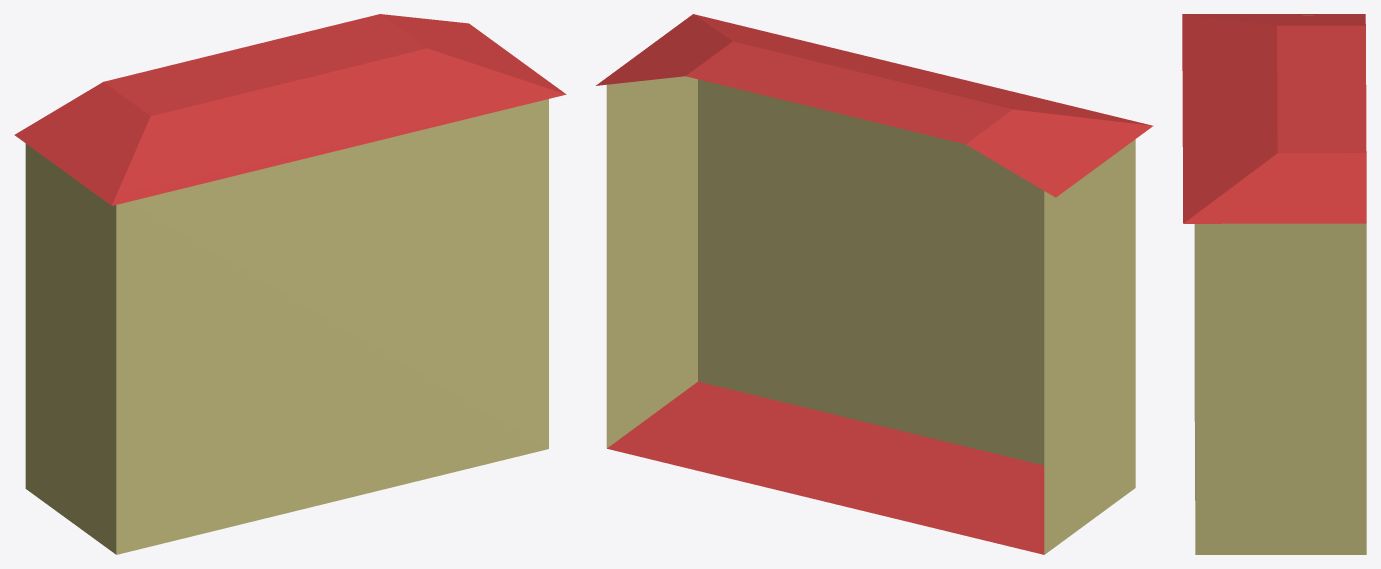
The picture shows the model from 3 angles, left to right: view 1: azimuth 30°, elevation 25°; view 2: azimuth 150°, elevation 25°; view 3: azimuth 270°, elevation 25°; orthographic projection. The views are drawn at different scales.
Size of the model in its own units: 10.12 by 3.76 by 8.23.
